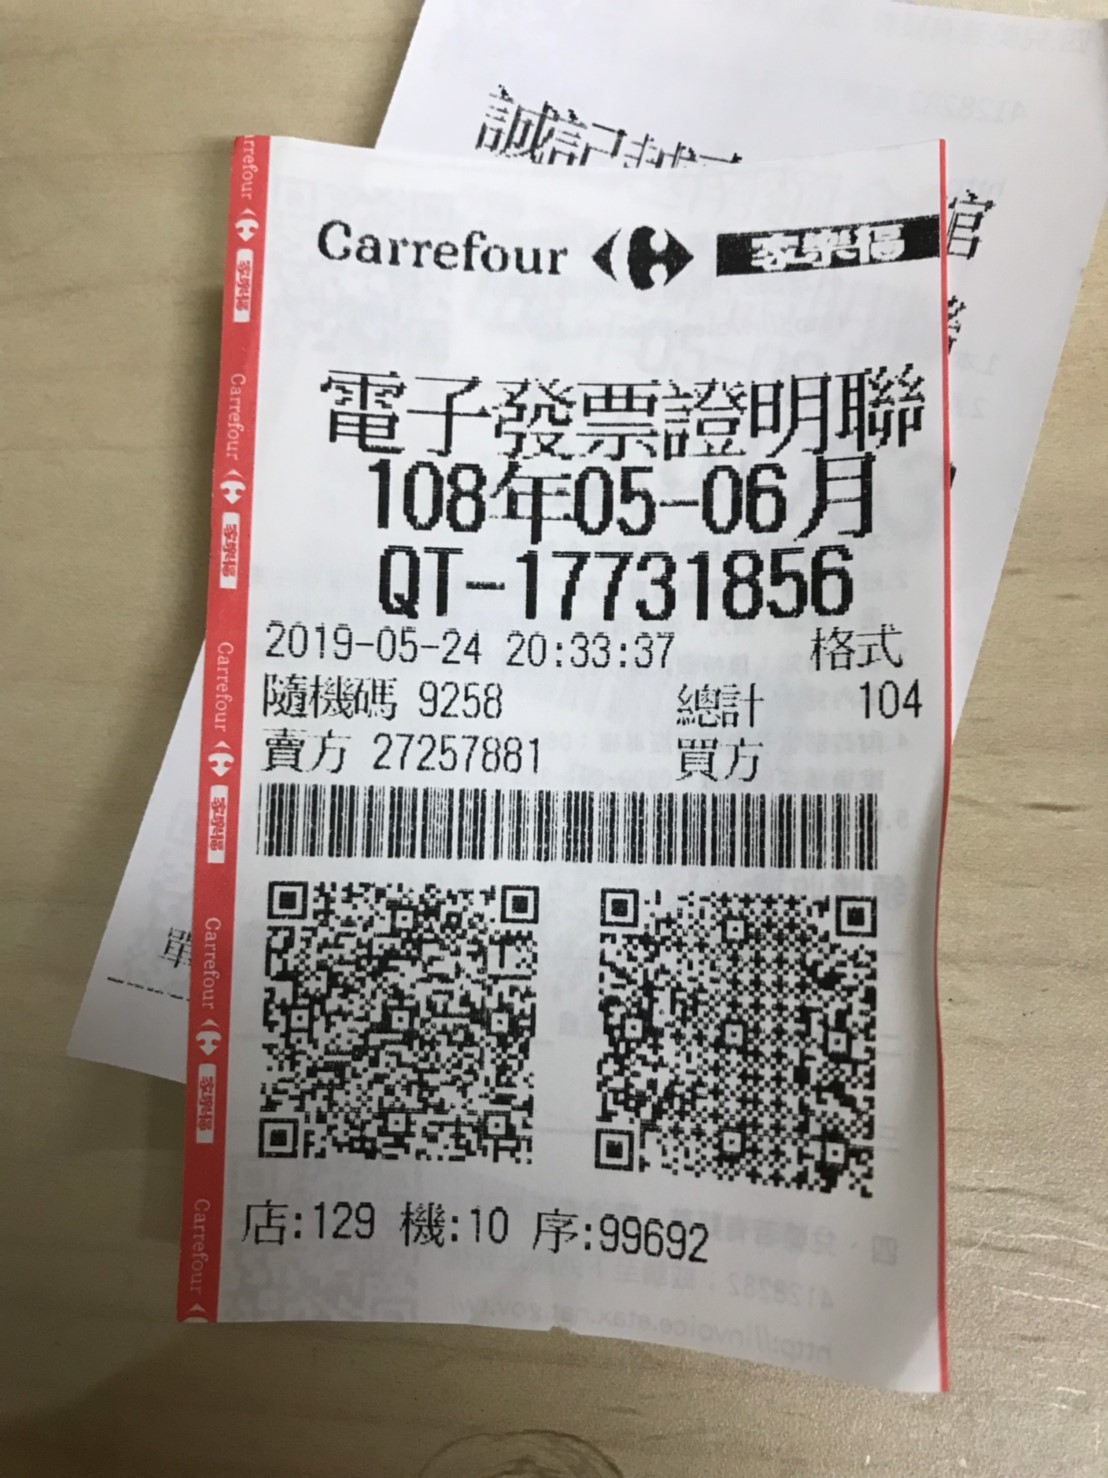Date_New: (364, 457, 882, 539)
Number_New: (514, 543, 865, 626)
